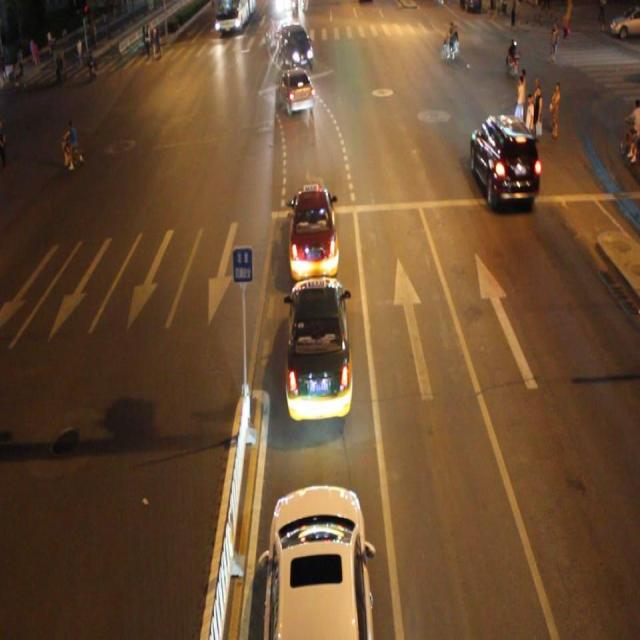car: (259, 479, 375, 640), (282, 274, 354, 422), (469, 112, 538, 208), (285, 182, 343, 280), (278, 67, 314, 113), (280, 23, 313, 68)
